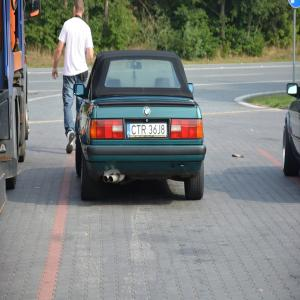Vehicle-registration-plate: (127, 121, 168, 138)
